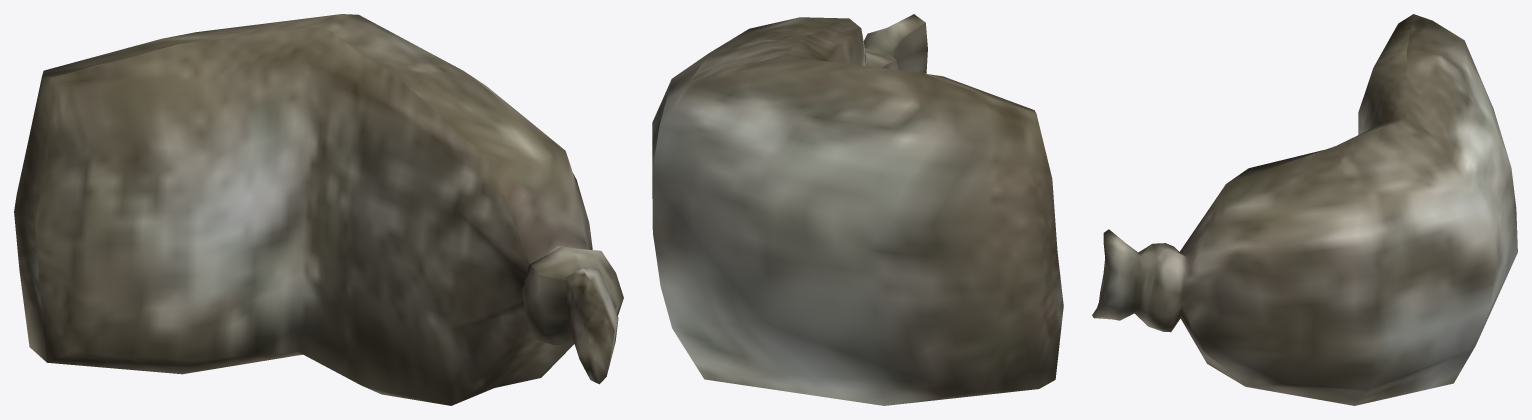
Rendered from military_sandbag_snow_single_bent.glb.
The picture shows the model from 3 angles, left to right: view 1: azimuth 30°, elevation 25°; view 2: azimuth 150°, elevation 25°; view 3: azimuth 270°, elevation 25°; orthographic projection. The views are drawn at different scales.
Bounding box in the file's own units: 21.21 × 15.81 × 22.49.
Materials: 1 (1 with a texture image).
